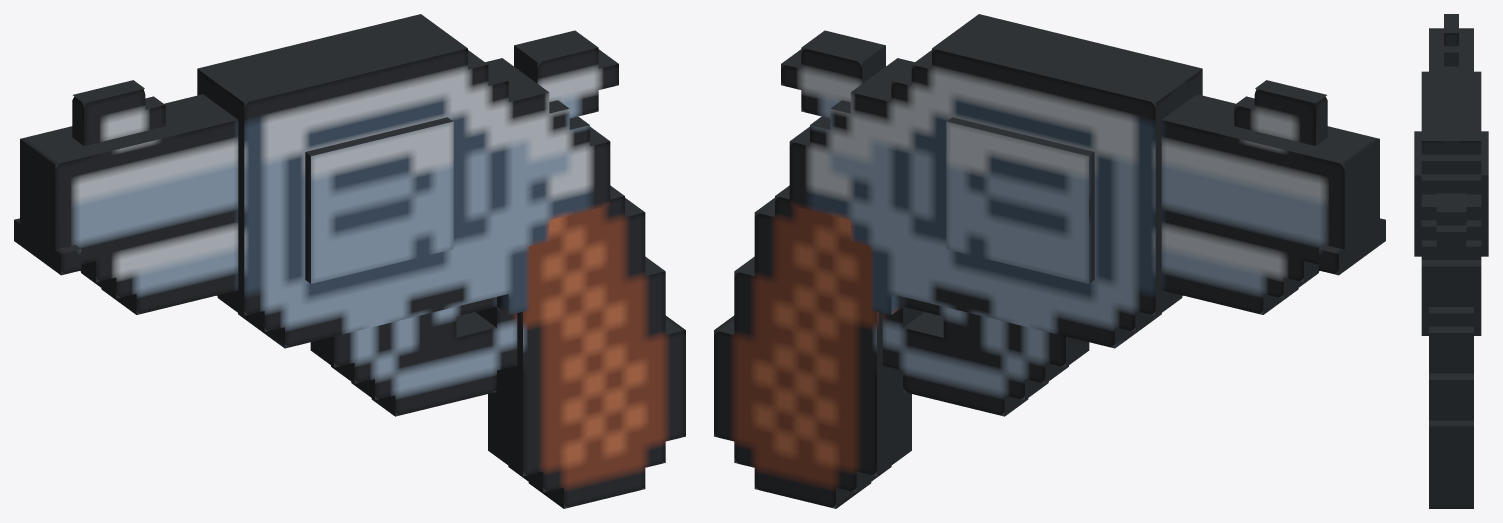
The model's file is Gun.fbx.
The picture shows the model from 3 angles, left to right: view 1: azimuth 30°, elevation 25°; view 2: azimuth 150°, elevation 25°; view 3: azimuth 270°, elevation 25°; orthographic projection. The views are drawn at different scales.
Parts seen in each view (by area): view 1: generated; view 2: generated; view 3: generated.
Part boxes in pixels (x1,y1,x2,y2): generated: (14, 14, 685, 508); generated: (714, 14, 1385, 508); generated: (1414, 14, 1488, 508).
Bounding box in the file's own units: 310 × 240 × 50.
